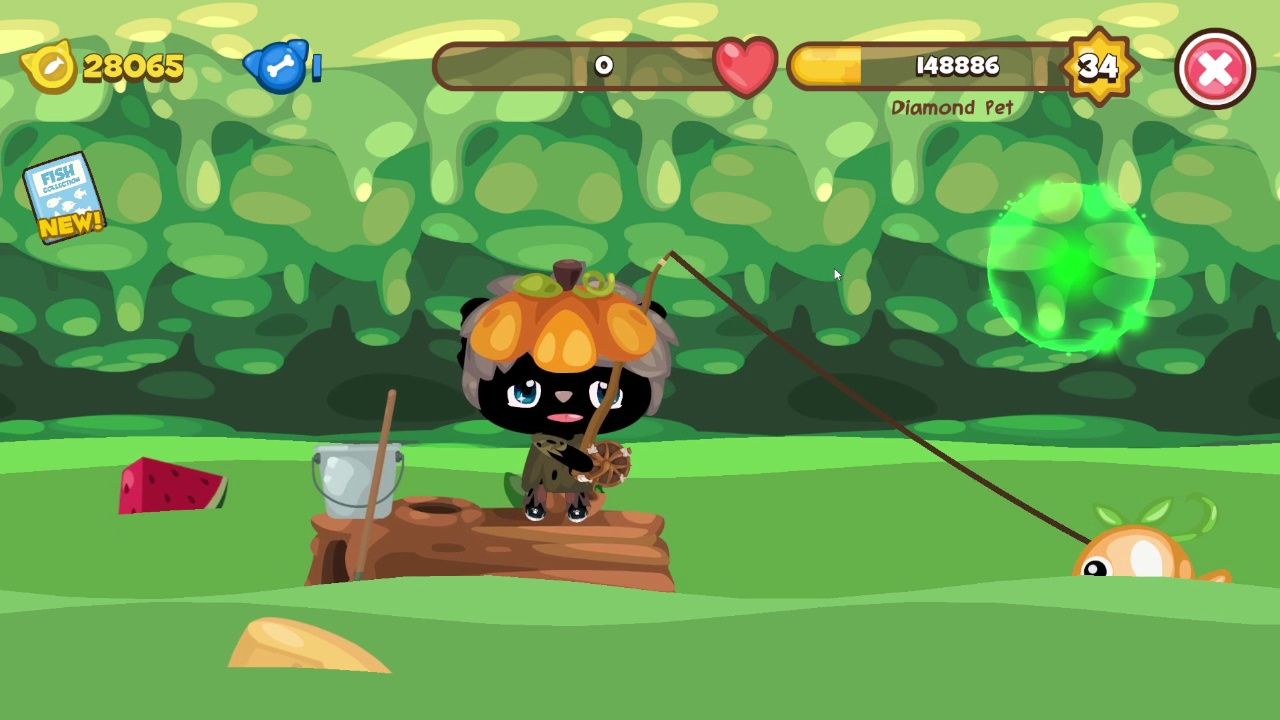point: (985, 181, 1157, 359)
